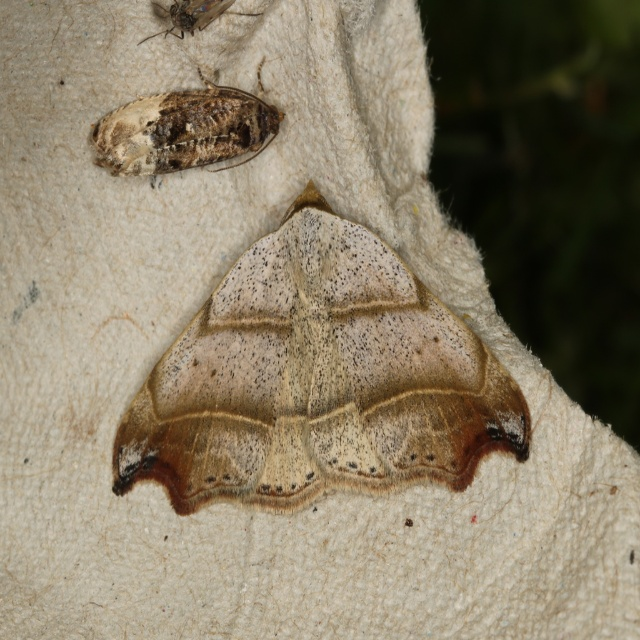Moths and butterflies: (112, 171, 533, 517), (91, 52, 290, 191)
